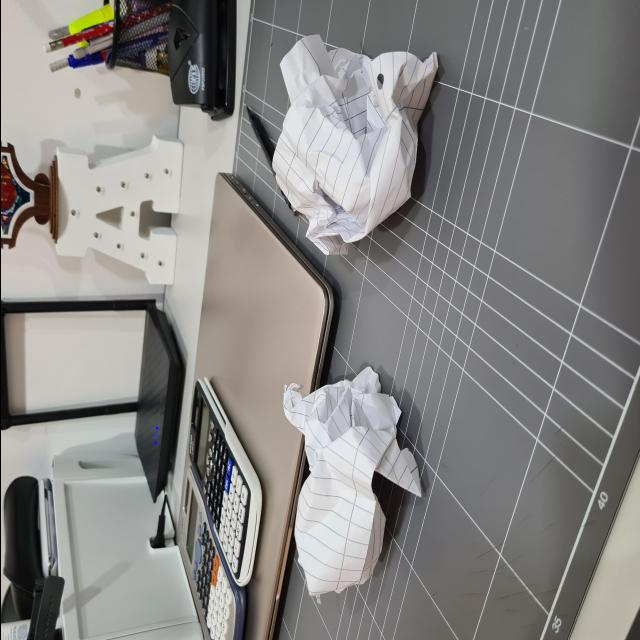kertas: (266, 38, 446, 254), (272, 360, 418, 596)
